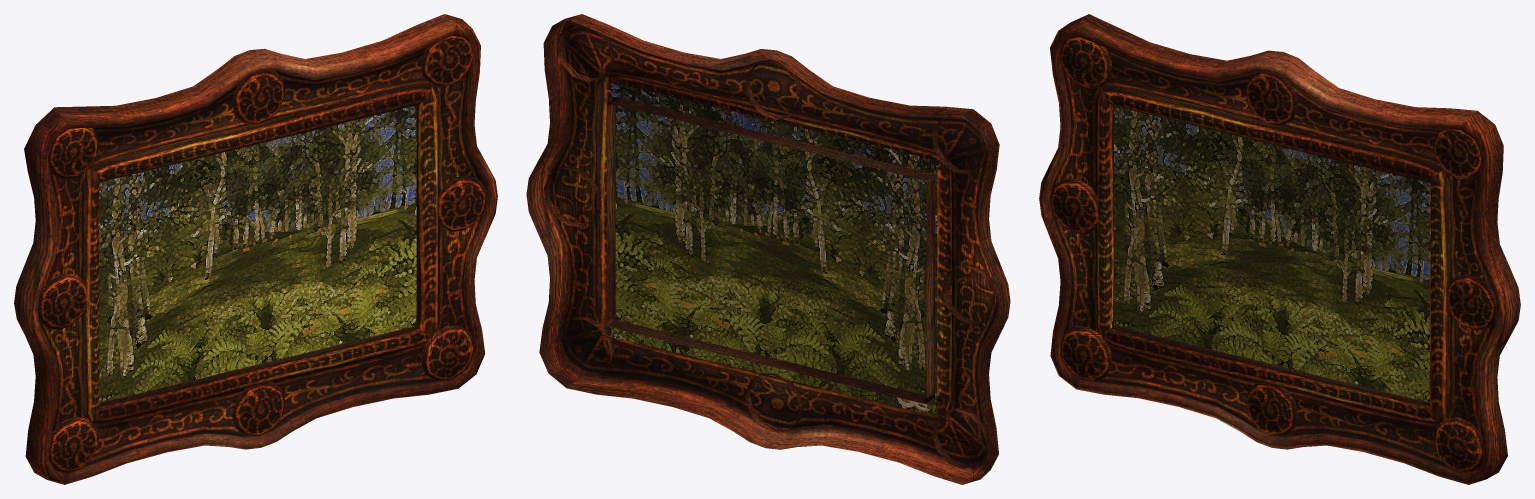
Rendered from Wall_Picture_A.FBX.
3 renders of one model, left to right at view 1: azimuth 30°, elevation 25°; view 2: azimuth 150°, elevation 25°; view 3: azimuth 330°, elevation 25°, orthographic.
Visible parts, largest first — view 1: Wall_Picture_A; view 2: Wall_Picture_A; view 3: Wall_Picture_A.
Part boxes in pixels (left/top/right/bottom): Wall_Picture_A: left=14, top=14, right=497, bottom=484; Wall_Picture_A: left=526, top=14, right=1010, bottom=484; Wall_Picture_A: left=1039, top=14, right=1520, bottom=484.
Size of the model in its own units: 154 by 121 by 7.42.
1 material, 1 textured.
